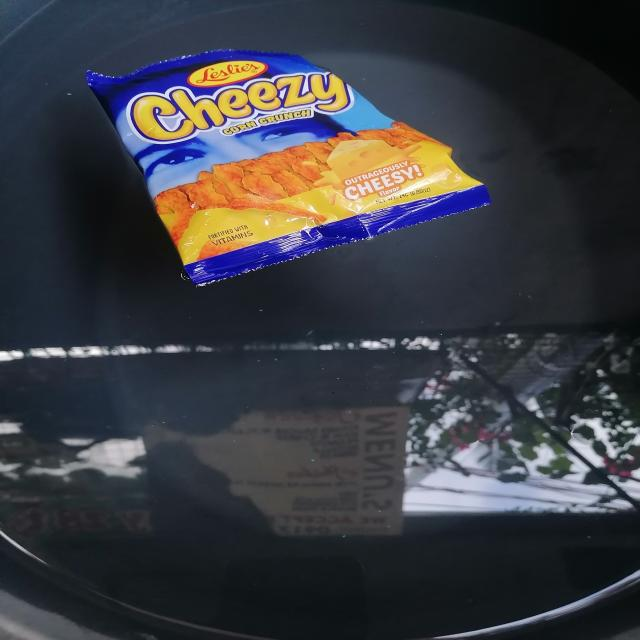Plastic Wrapper: (86, 50, 491, 285)
